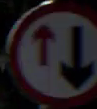Two way: (16, 21, 92, 86)
